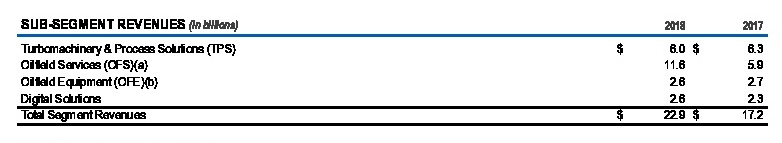table: (0, 0, 782, 143)
